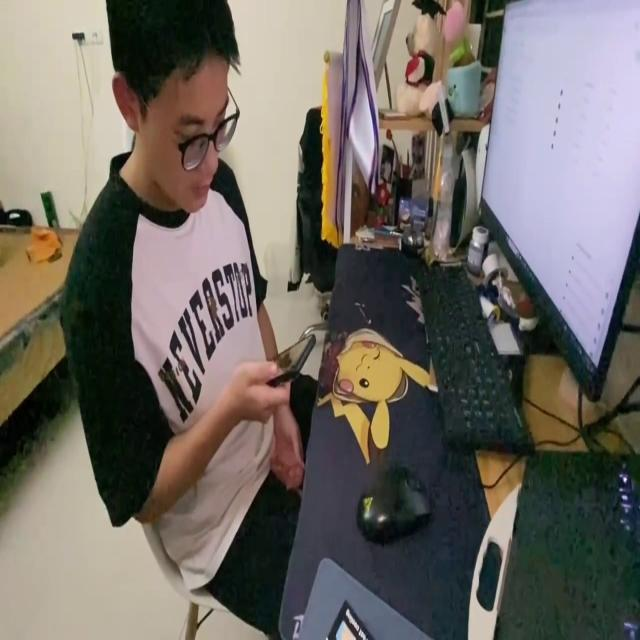laptop: (479, 0, 640, 401)
phone: (256, 330, 318, 385)
student: (56, 0, 322, 611)
